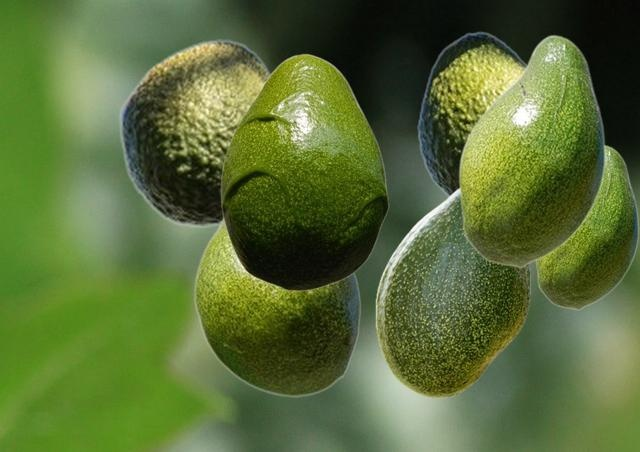avocado: (220, 53, 388, 290), (458, 34, 605, 267), (375, 188, 529, 397), (193, 218, 360, 397), (118, 39, 272, 226), (416, 31, 525, 197), (535, 144, 638, 309)
